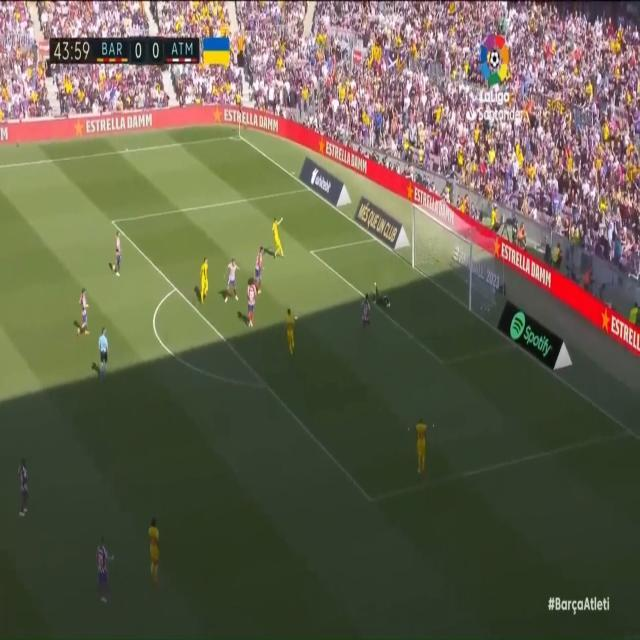ball: (489, 281, 497, 295)
goalkeeper: (370, 282, 392, 317)
player: (405, 413, 439, 476), (93, 535, 118, 612), (13, 459, 40, 521), (144, 513, 164, 584), (280, 305, 304, 359), (251, 242, 271, 298), (78, 281, 94, 342), (227, 249, 241, 316), (195, 247, 211, 305), (271, 212, 288, 264), (111, 222, 124, 279), (244, 277, 256, 326), (361, 288, 374, 332)
referee: (94, 320, 112, 383)
